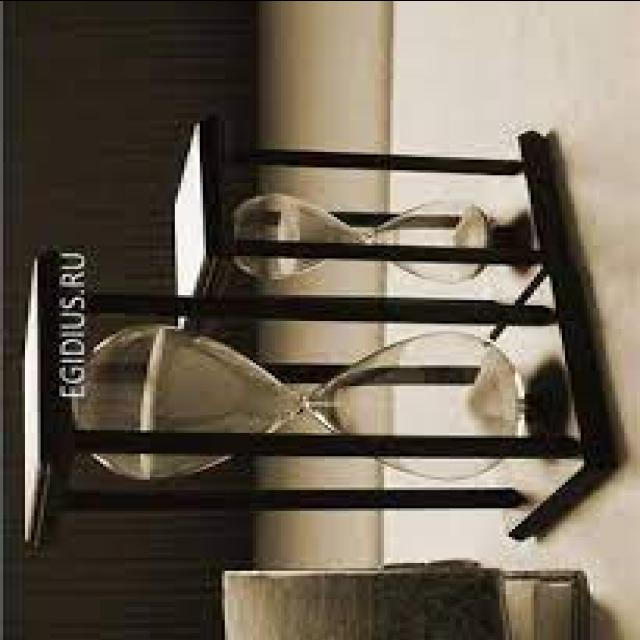clock: (9, 280, 586, 546)
